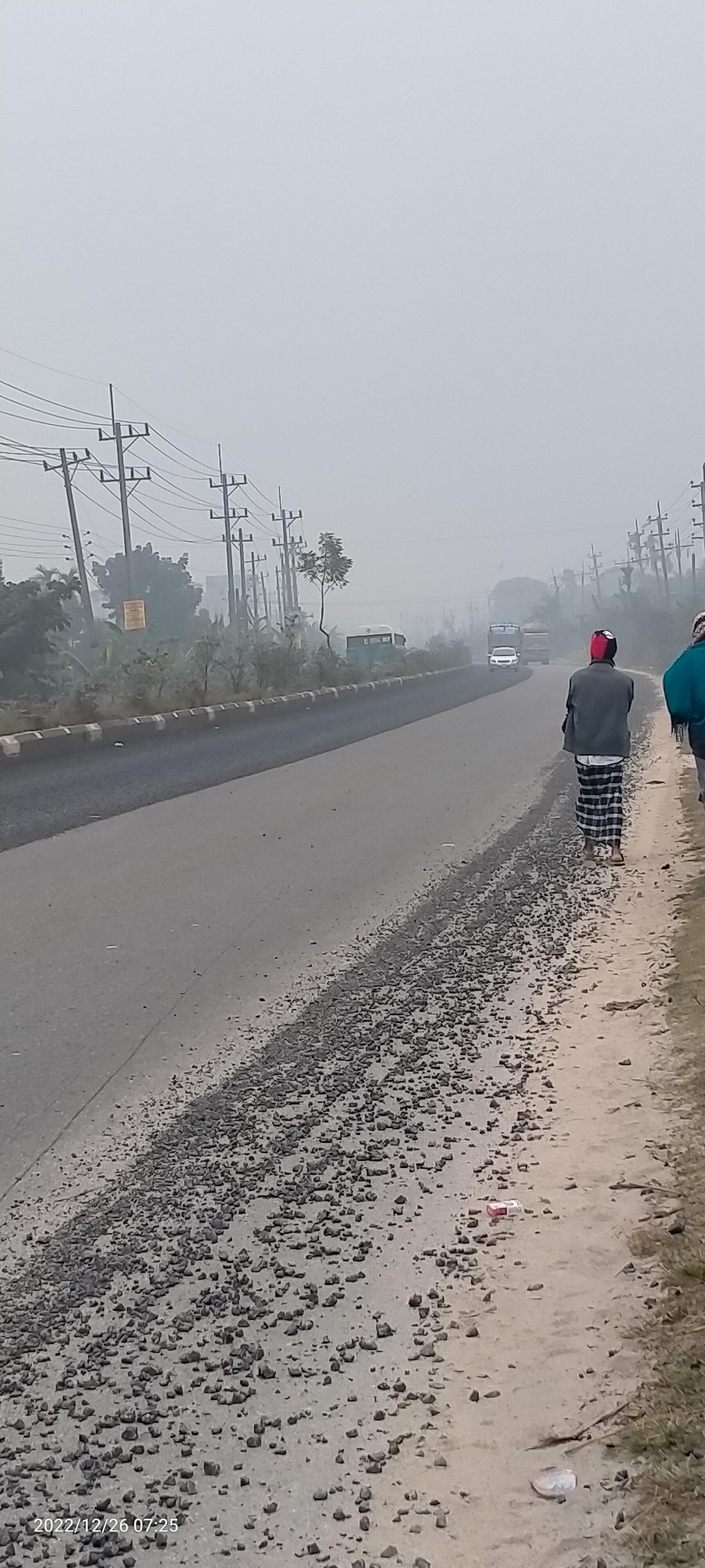Bus: (340, 610, 427, 679), (476, 621, 532, 668)
Car: (480, 640, 532, 684)
Truck: (517, 622, 557, 670)
